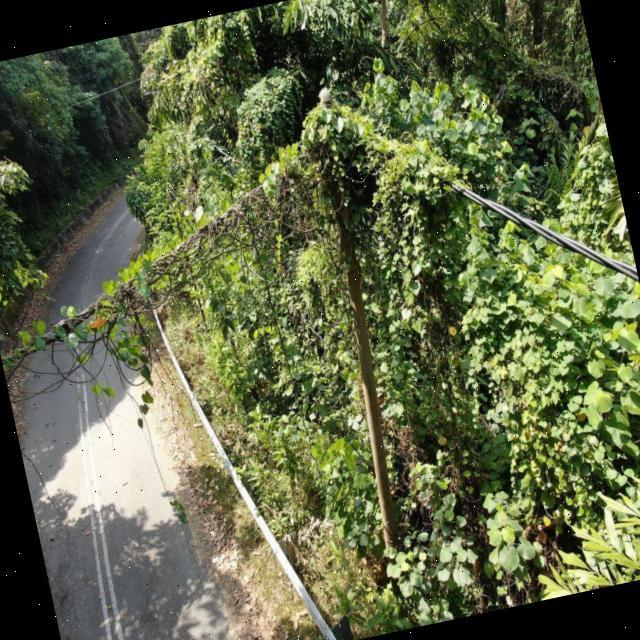critical vegetation: (0, 72, 495, 397)
